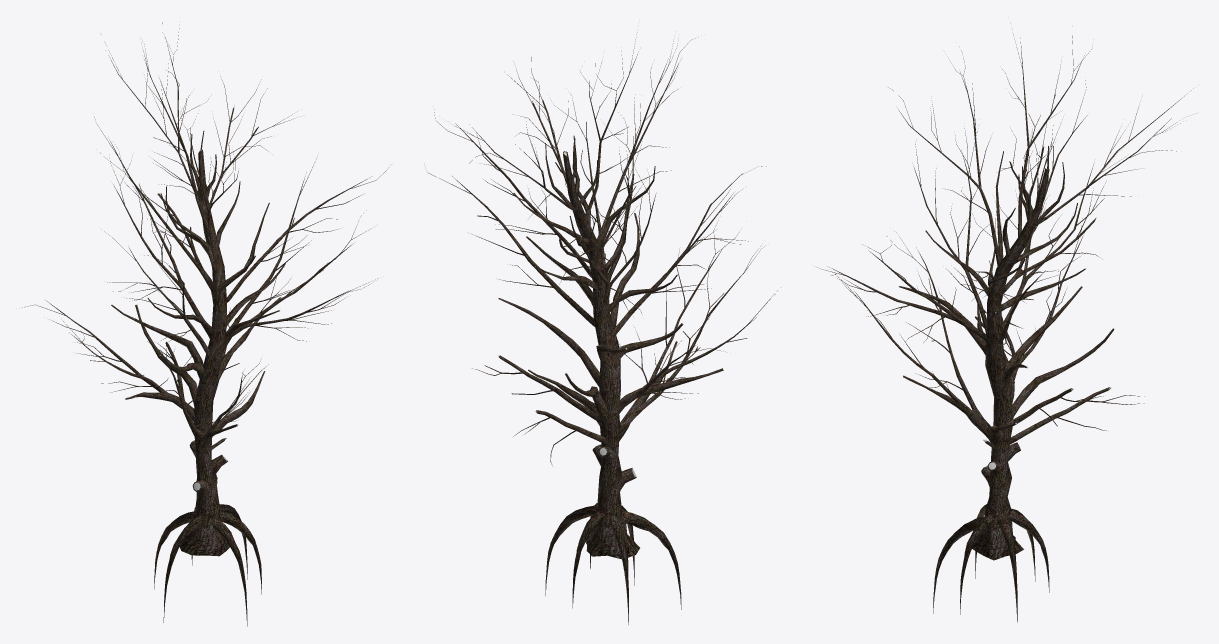
Rendered from desrt_tree02.fbx.
3 renders of one model, left to right at view 1: azimuth 30°, elevation 25°; view 2: azimuth 150°, elevation 25°; view 3: azimuth 270°, elevation 25°, orthographic. The views are drawn at different scales.
Visible parts, largest first — view 1: desrt_tree02; view 2: desrt_tree02; view 3: desrt_tree02.
Boxes of the visible parts, bbox=[...] form: desrt_tree02: bbox=[22, 22, 386, 626]; desrt_tree02: bbox=[427, 32, 777, 624]; desrt_tree02: bbox=[818, 34, 1193, 622].
Size of the model in its own units: 32.19 by 32.35 by 52.96.
